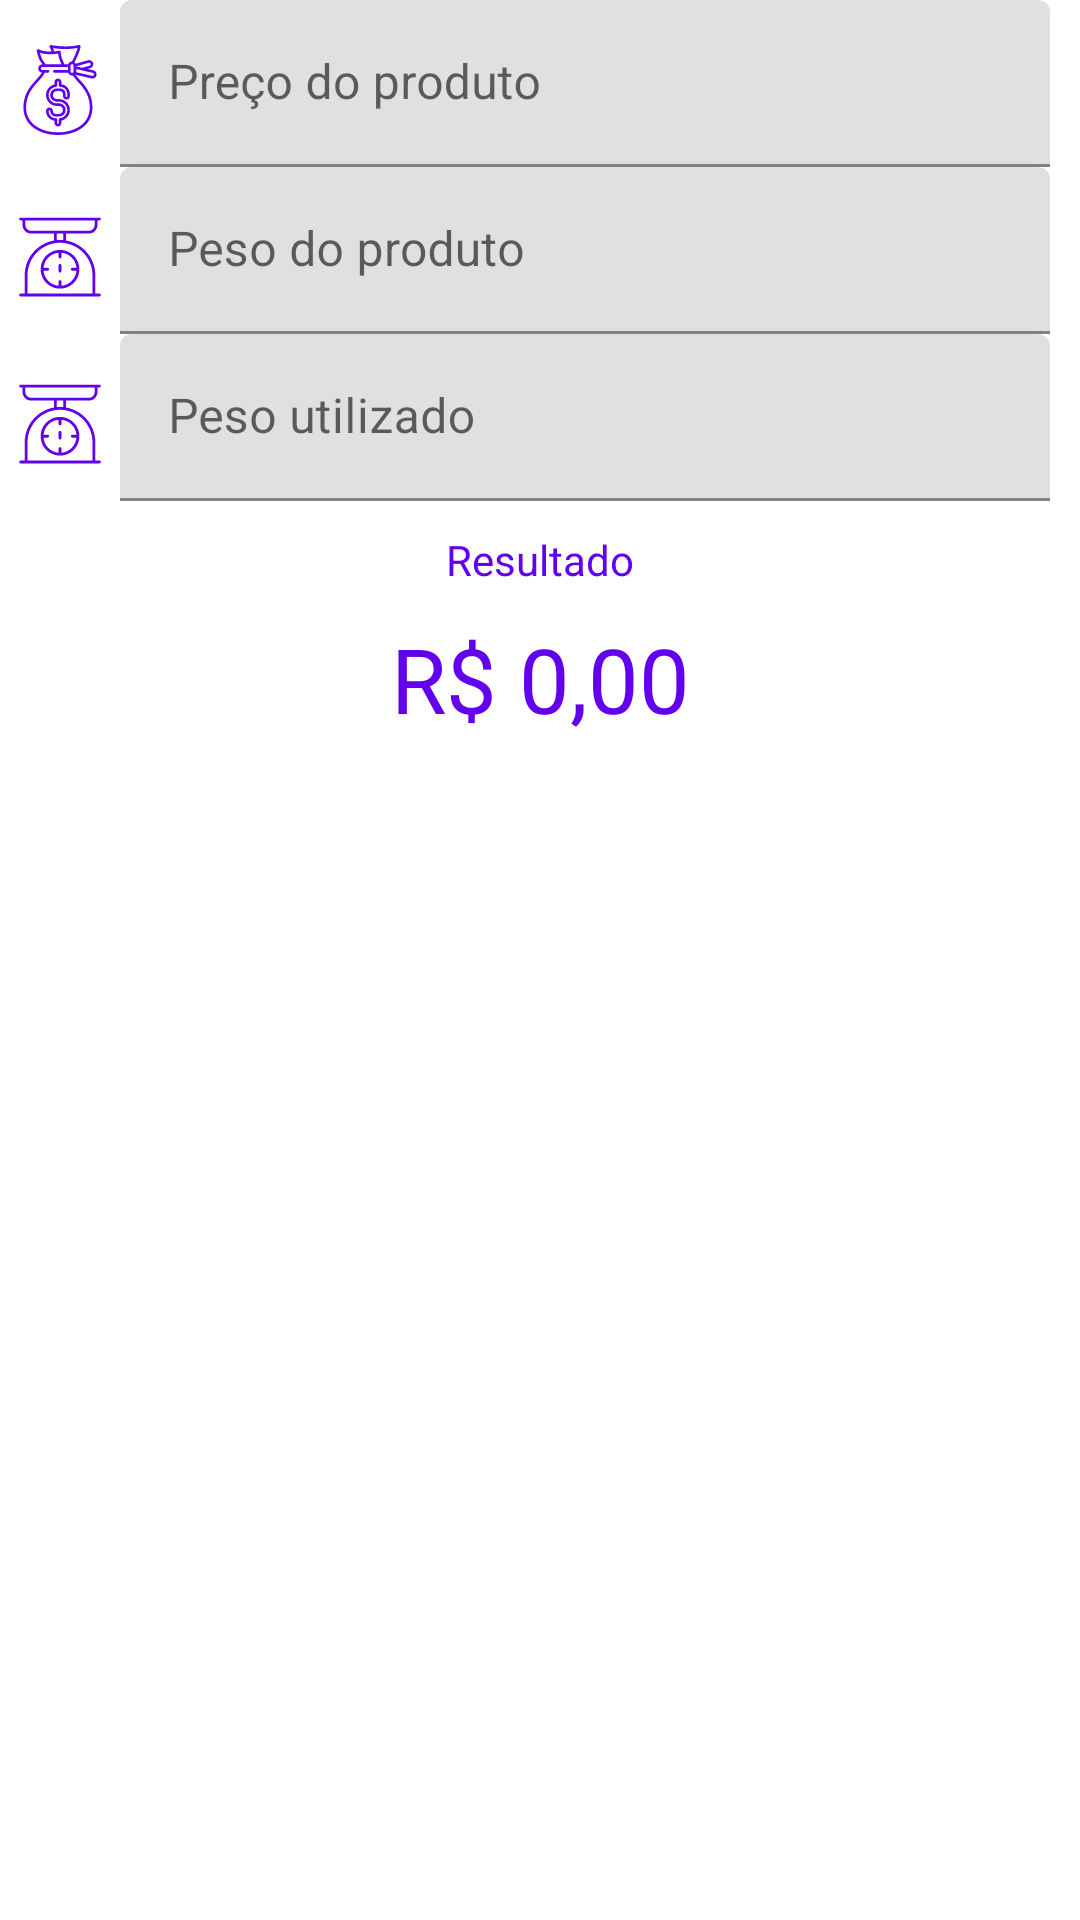

Where icons sit on this 1080 × 1920 app screen, as (x1, y1, x2, y2):
money bag: (23, 45, 97, 135)
scale: (19, 217, 101, 297), (19, 384, 101, 464)
